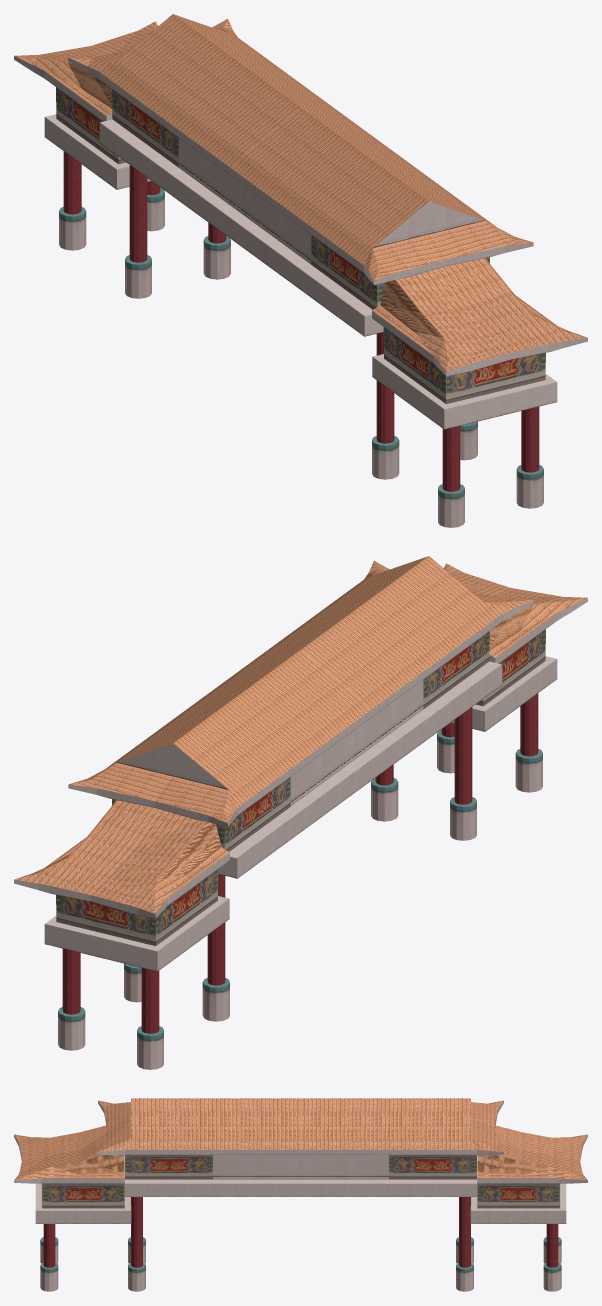
File: chnatwnmll02_lvs.obj
The picture shows the model from 3 angles, top to bottom: view 1: azimuth 30°, elevation 25°; view 2: azimuth 150°, elevation 25°; view 3: azimuth 270°, elevation 25°; orthographic projection. The views are drawn at different scales.
Parts seen in each view (by area): view 1: chnatwnmll02_lvs; view 2: chnatwnmll02_lvs; view 3: chnatwnmll02_lvs.
Part boxes in pixels (x1,y1,x2,y2): chnatwnmll02_lvs: (14, 14, 587, 527); chnatwnmll02_lvs: (14, 556, 587, 1069); chnatwnmll02_lvs: (14, 1098, 587, 1291).
Bounding box in the file's own units: 7.41 × 11.82 × 34.77.
6 materials, 6 textured.
